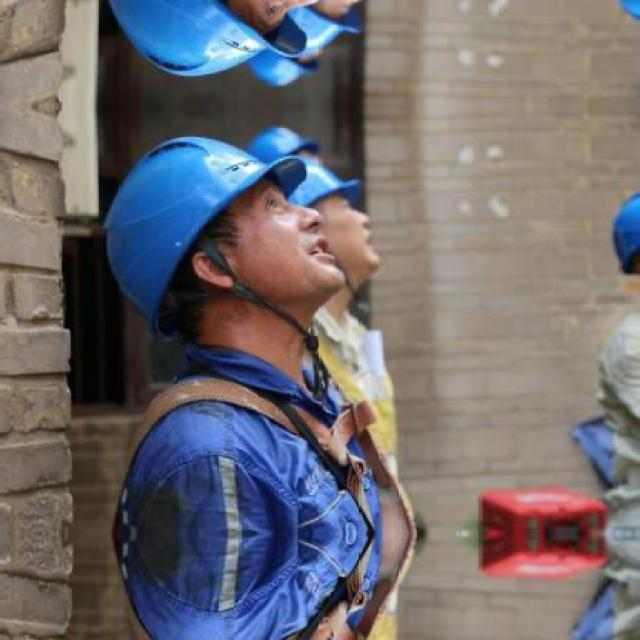helmet: (91, 120, 372, 375), (91, 0, 374, 94), (242, 112, 324, 198), (242, 17, 324, 102)
